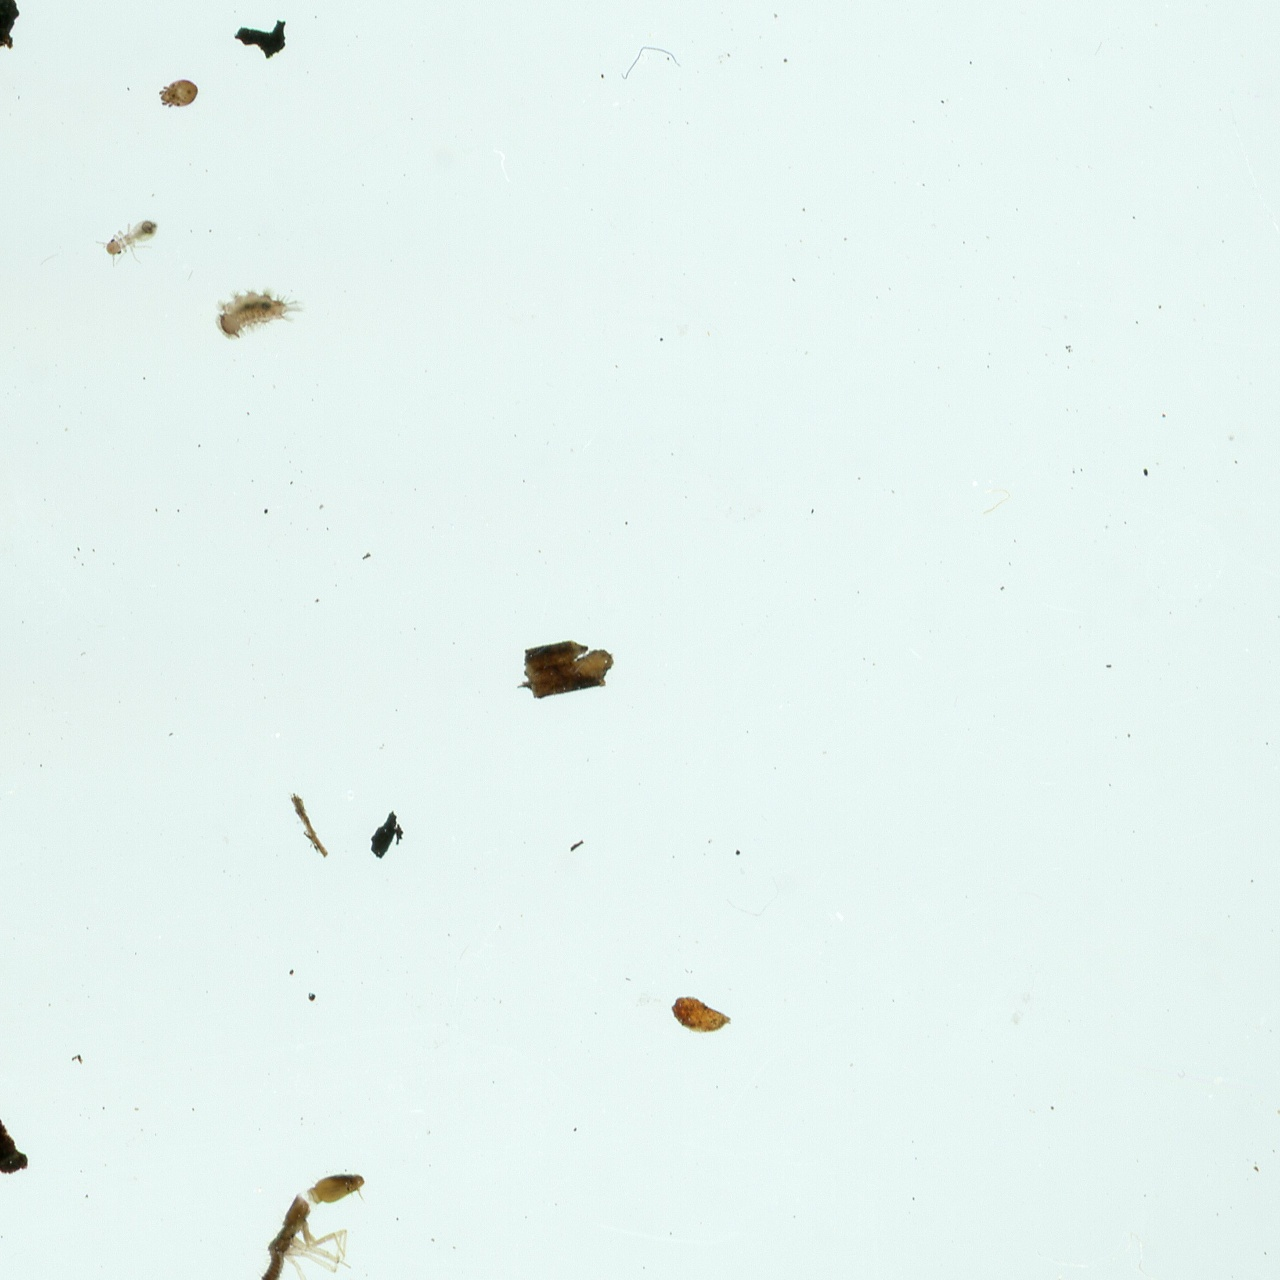arthropod: (229, 1165, 373, 1280), (209, 279, 308, 345), (92, 205, 165, 272), (155, 76, 202, 111)
